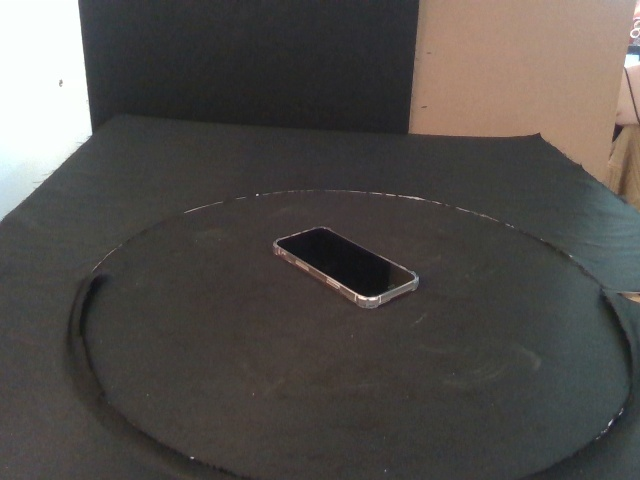phone: (271, 226, 419, 309)
